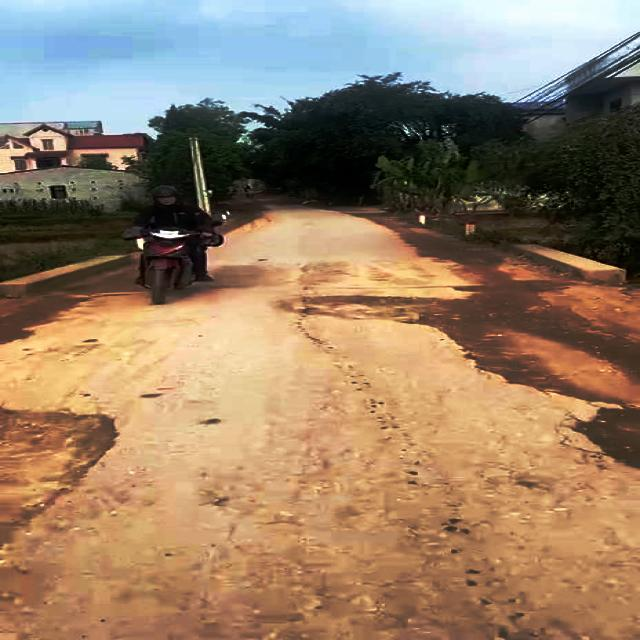pothole: (0, 398, 127, 528), (280, 284, 462, 328)
